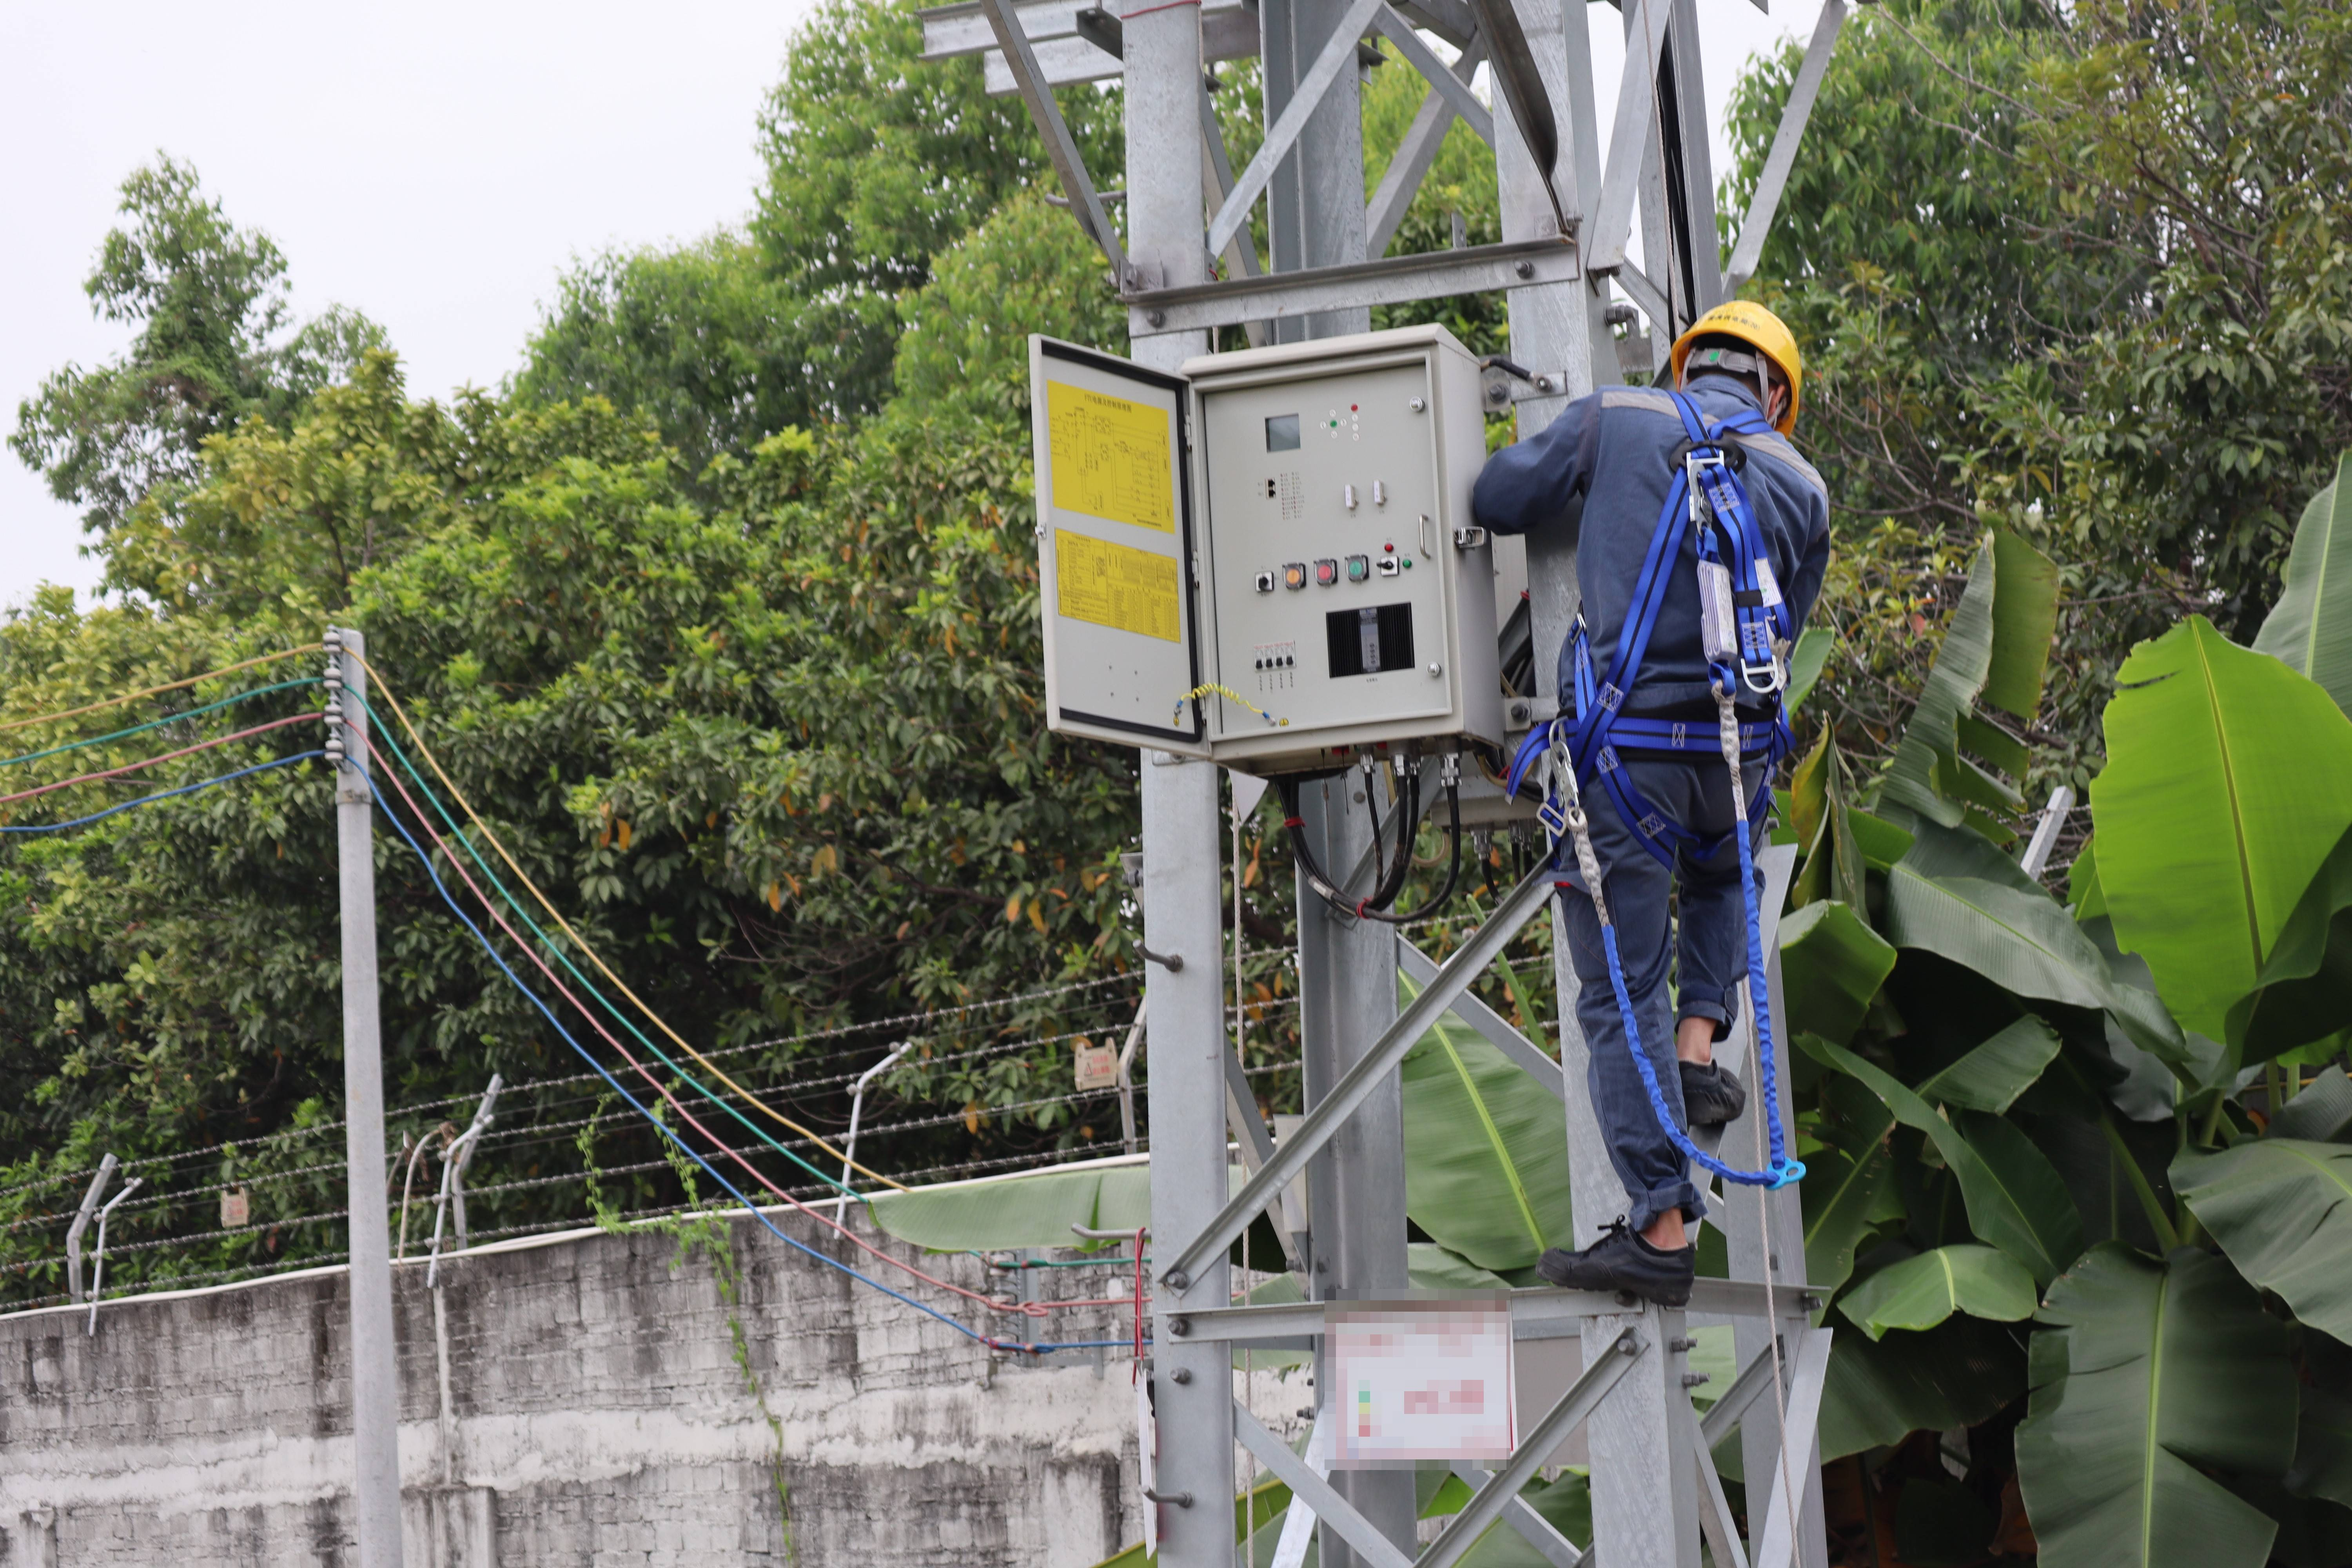downsuit: (1538, 723, 1787, 1221)
upsuit: (1468, 369, 1836, 746)
